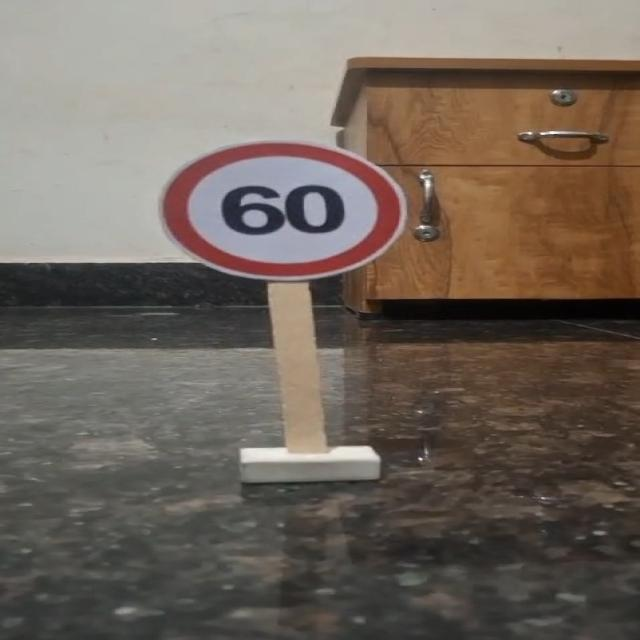Speed60: (142, 139, 420, 287)
